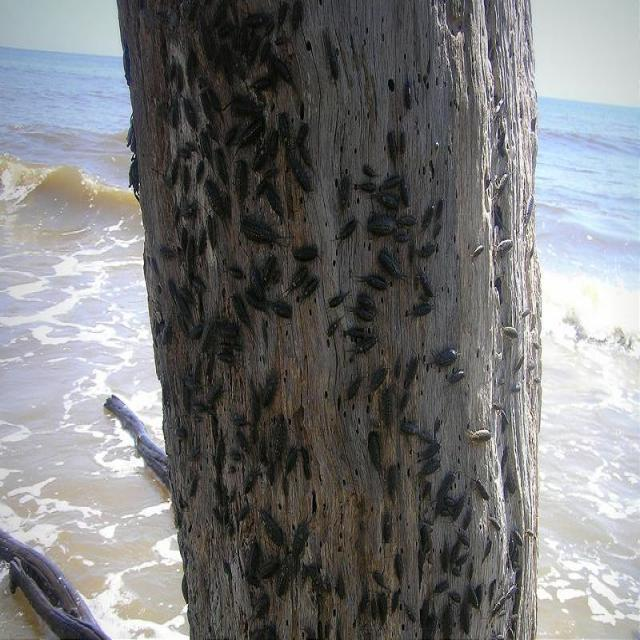BlisterBeetle-Adult-: (259, 509, 287, 549), (363, 428, 385, 476), (334, 215, 361, 248), (284, 264, 310, 295), (322, 281, 349, 310), (357, 270, 390, 292), (300, 276, 323, 306), (400, 77, 417, 117), (292, 243, 324, 264), (324, 315, 346, 341), (328, 51, 343, 84), (407, 301, 433, 320)
